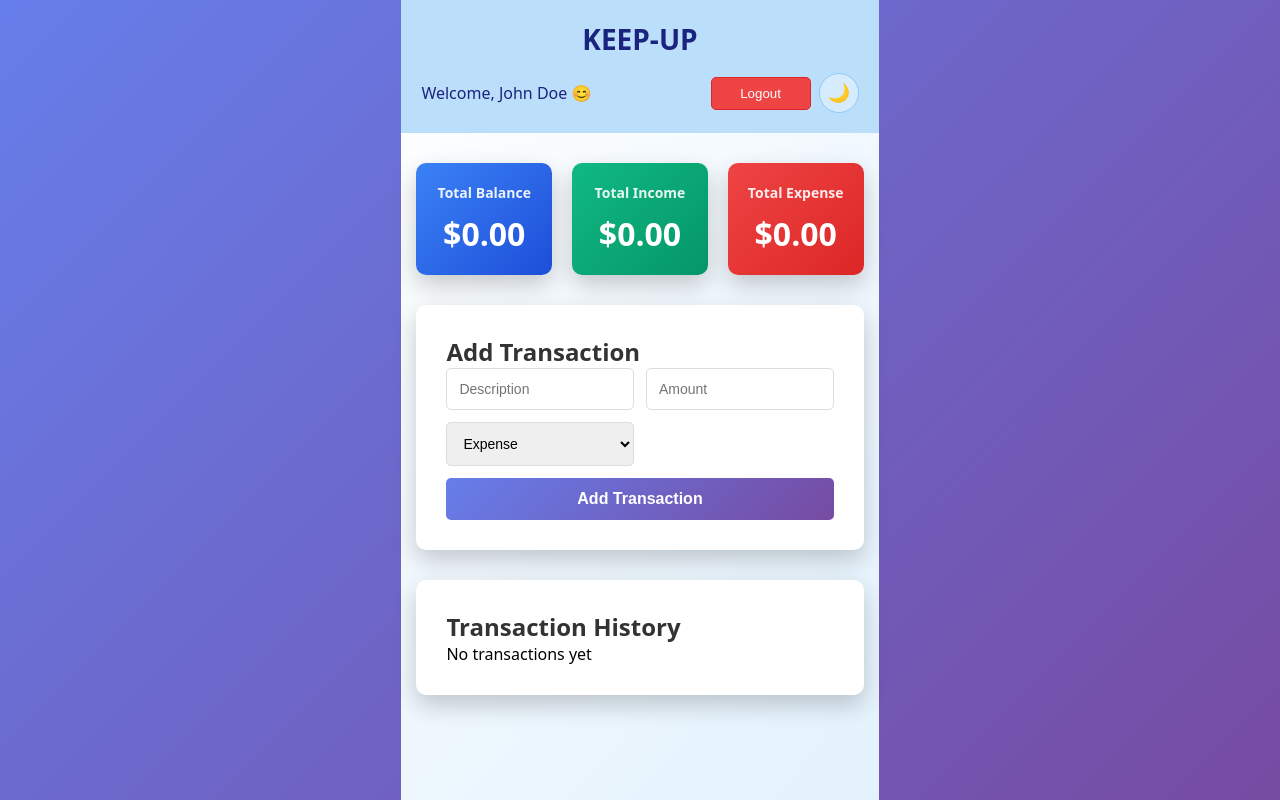
Test: Dashboard - Add Transaction Calculation › adds income transaction and updates total balance
Expected: the text "Welcome, John Doe 😊" is shown, x1=421 y1=82 x2=591 y2=104
Note: Fill form
Type "Salary" into the field with placeholder "Description" at (540, 389), box x1=446 y1=368 x2=634 y2=410
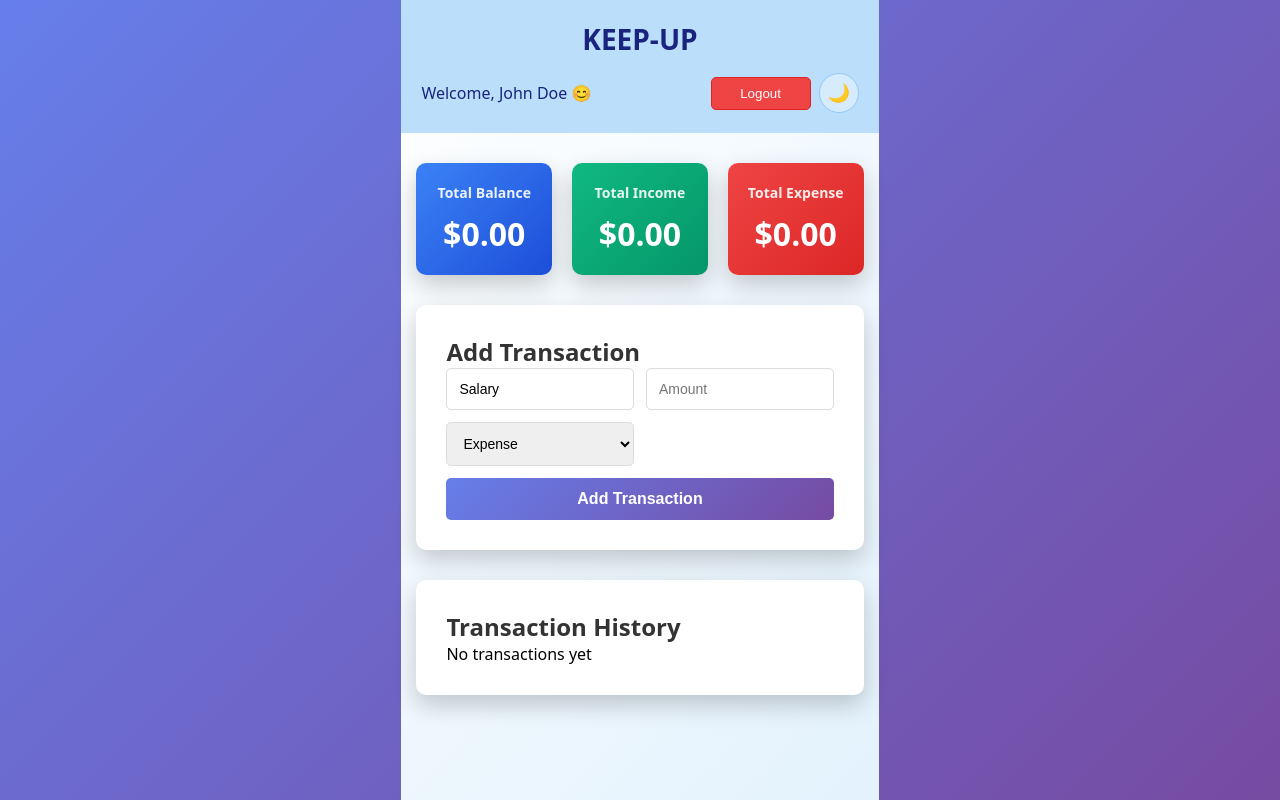
Type "5000" into the number field with placeholder "Amount" at (740, 389), box x1=646 y1=368 x2=834 y2=410
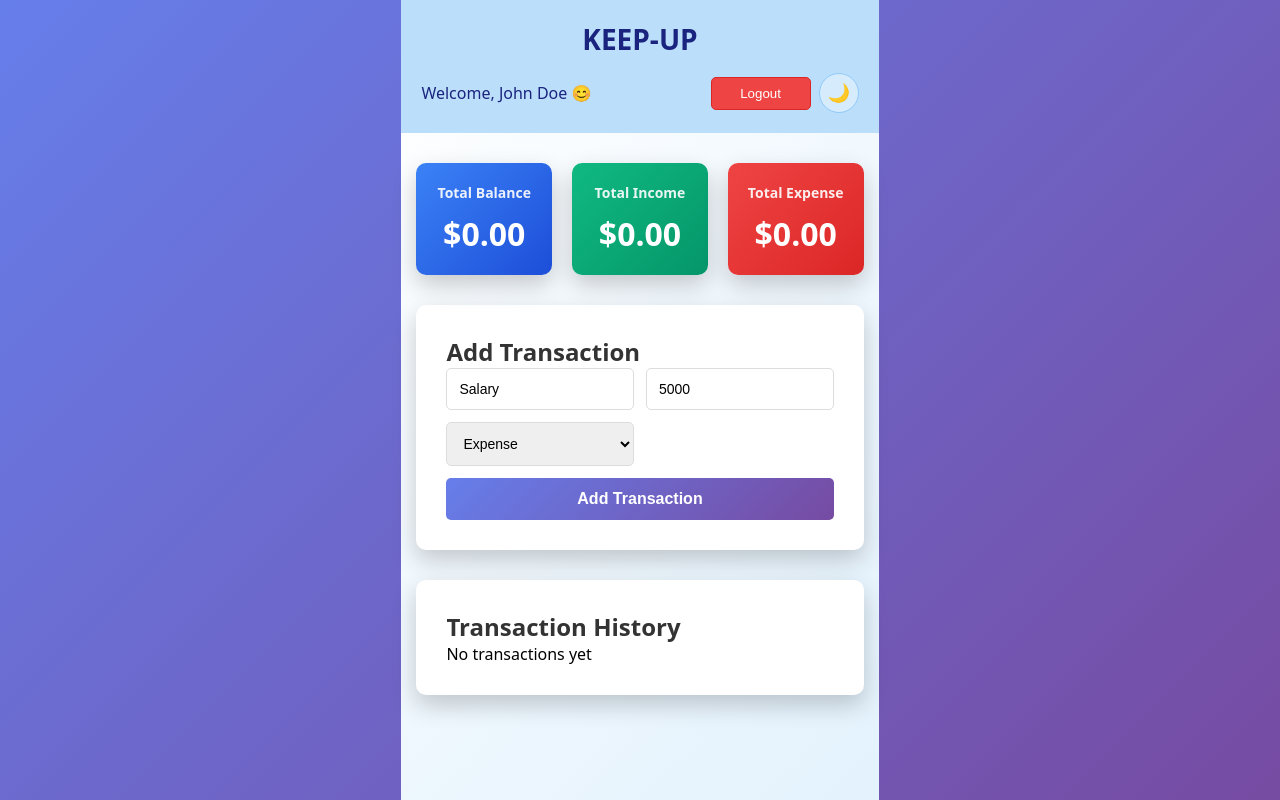
Select "Income" in the dropdown showing "Expense" at (540, 444), box x1=446 y1=422 x2=634 y2=466
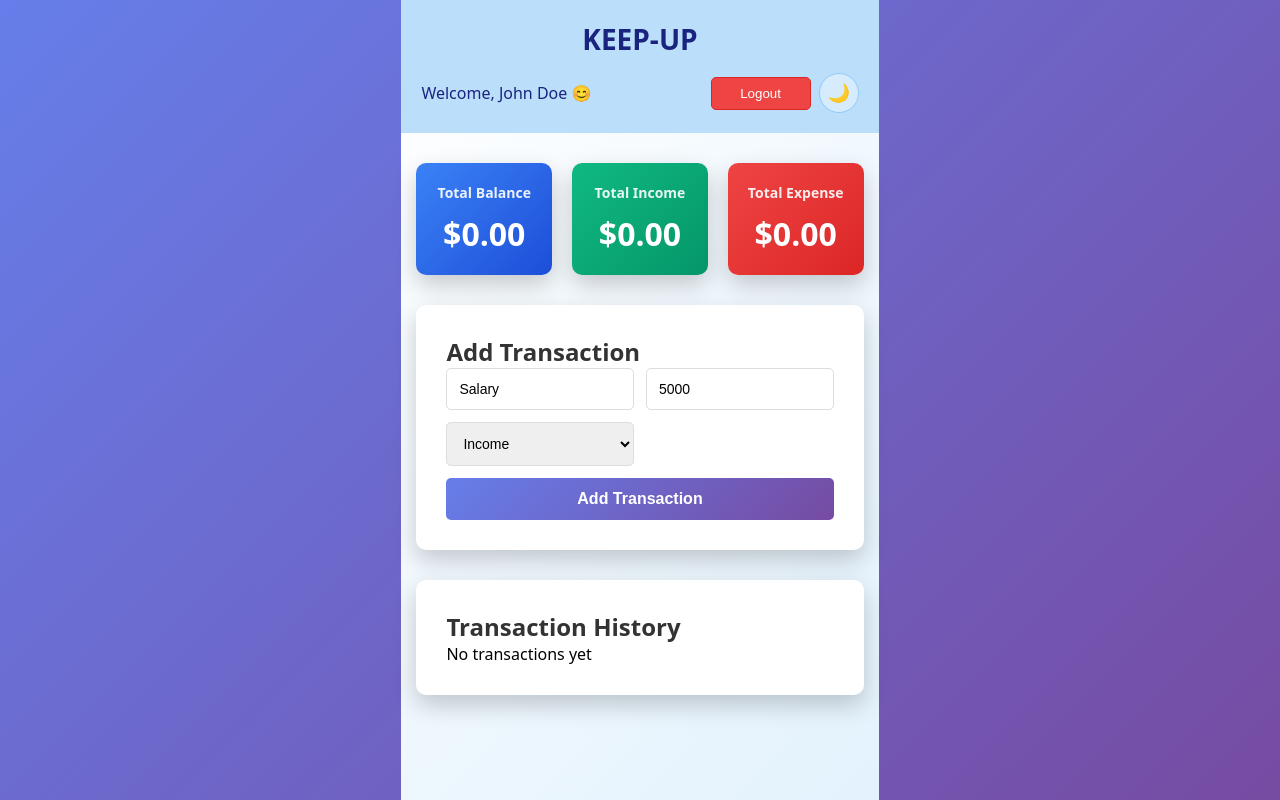
Note: Submit form
Click the button "Add Transaction" at (640, 499), box x1=446 y1=478 x2=834 y2=520
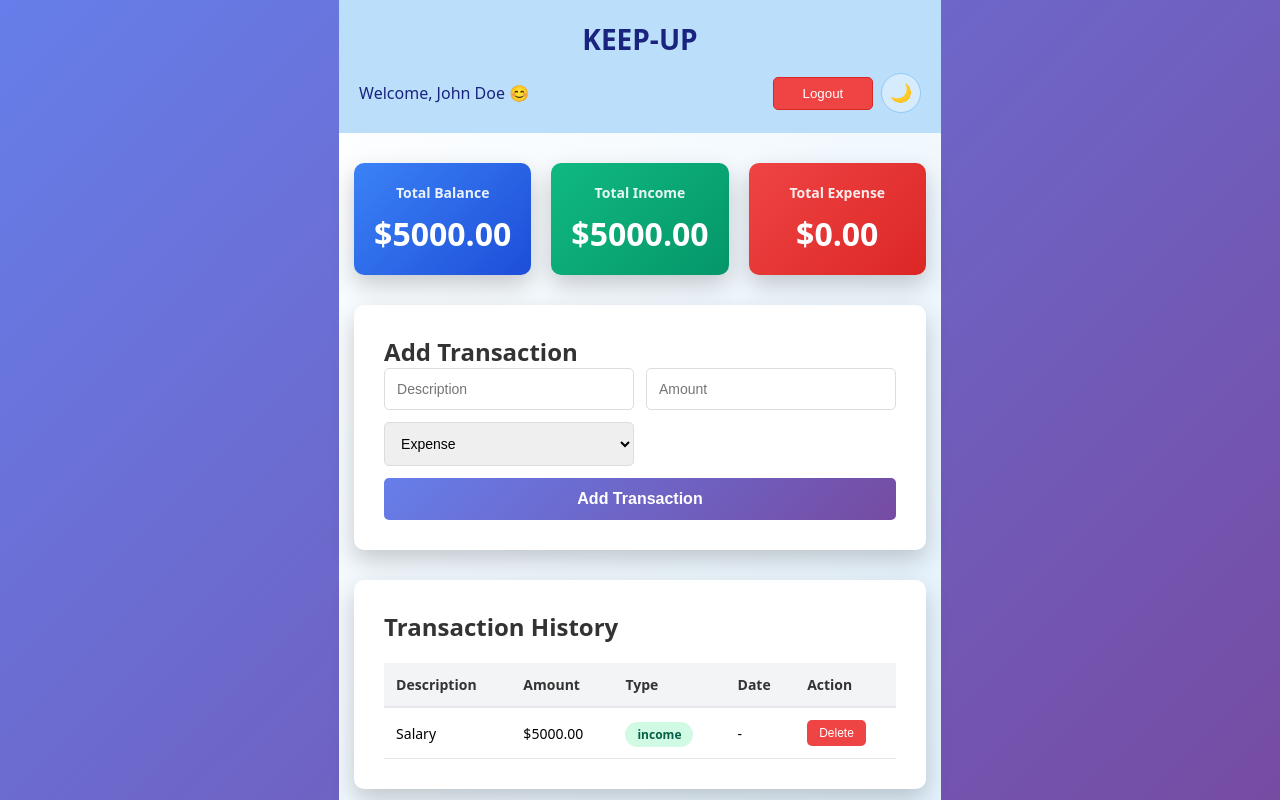
Result: the text "$5000.00" below "Total Balance" is shown at x1=374 y1=212 x2=511 y2=255
